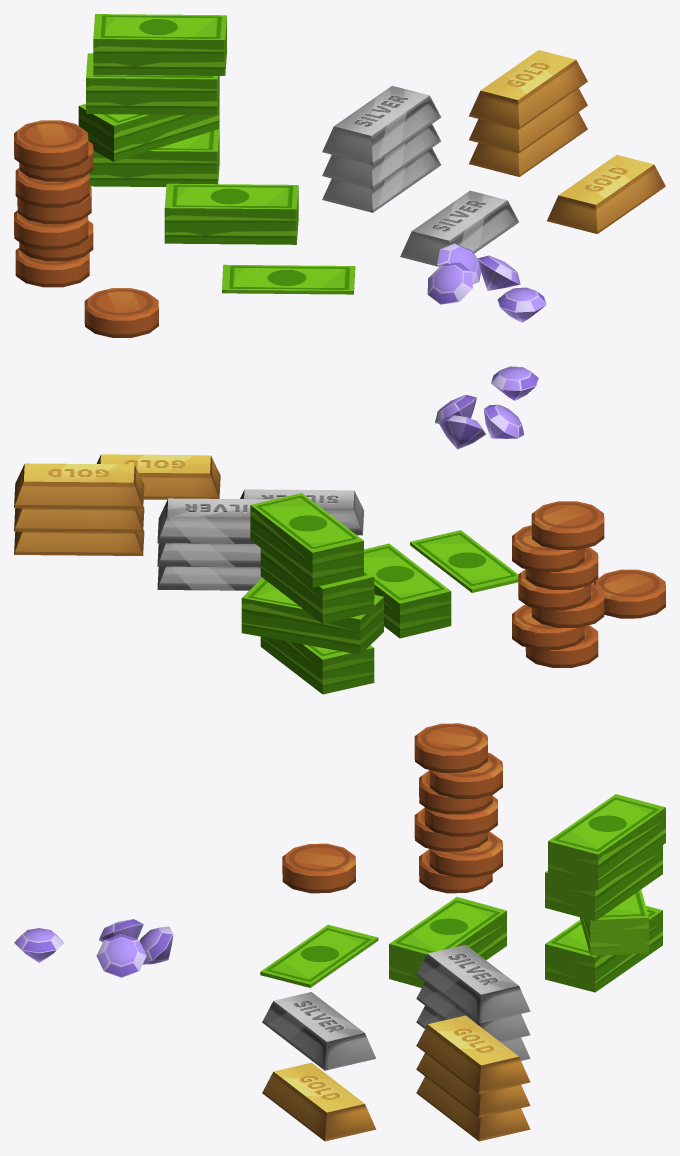
Rendered from capital-run_money.fbx.
3 views of the same model, one above another, from view 1: azimuth 30°, elevation 25°; view 2: azimuth 150°, elevation 25°; view 3: azimuth 270°, elevation 25° (orthographic). The views are drawn at different scales.
Parts seen in each view (by area): view 1: money_03, coin_02, silver_02, gold_02, money_02, gold_01, silver_01, money_01, elmas_02, coin_01, elmas_01; view 2: money_03, coin_02, gold_02, silver_02, money_02, gold_01, money_01, coin_01, elmas_02, silver_01, elmas_01; view 3: money_03, coin_02, gold_02, silver_02, money_02, silver_01, gold_01, money_01, coin_01, elmas_02, elmas_01.
Part boxes in pixels (x1,y1,x2,y2): money_03: (78,14,226,186); coin_02: (14,120,93,287); silver_02: (322,86,441,212); gold_02: (469,50,587,176); money_02: (164,183,298,244); gold_01: (547,155,665,233); silver_01: (400,190,518,266); money_01: (222,264,355,294); elmas_02: (427,243,520,304); coin_01: (84,288,158,337); elmas_01: (497,287,546,322); money_03: (241,493,383,694); coin_02: (512,501,604,667); gold_02: (14,463,144,555); silver_02: (157,498,273,590); money_02: (364,543,451,638); gold_01: (96,454,220,499); money_01: (410,530,518,592); coin_01: (593,569,665,618); elmas_02: (435,394,523,449); silver_01: (240,489,363,535); elmas_01: (491,366,538,400); money_03: (545,794,665,992); coin_02: (414,723,502,893); gold_02: (416,1015,530,1141); silver_02: (416,944,530,1060); money_02: (389,897,506,987); silver_01: (262,992,376,1070); gold_01: (262,1062,376,1141); money_01: (260,924,378,987); coin_01: (282,843,355,893); elmas_02: (96,919,173,977); elmas_01: (14,928,64,962).
Size of the model in its own units: 10.2 by 2.42 by 9.99.
